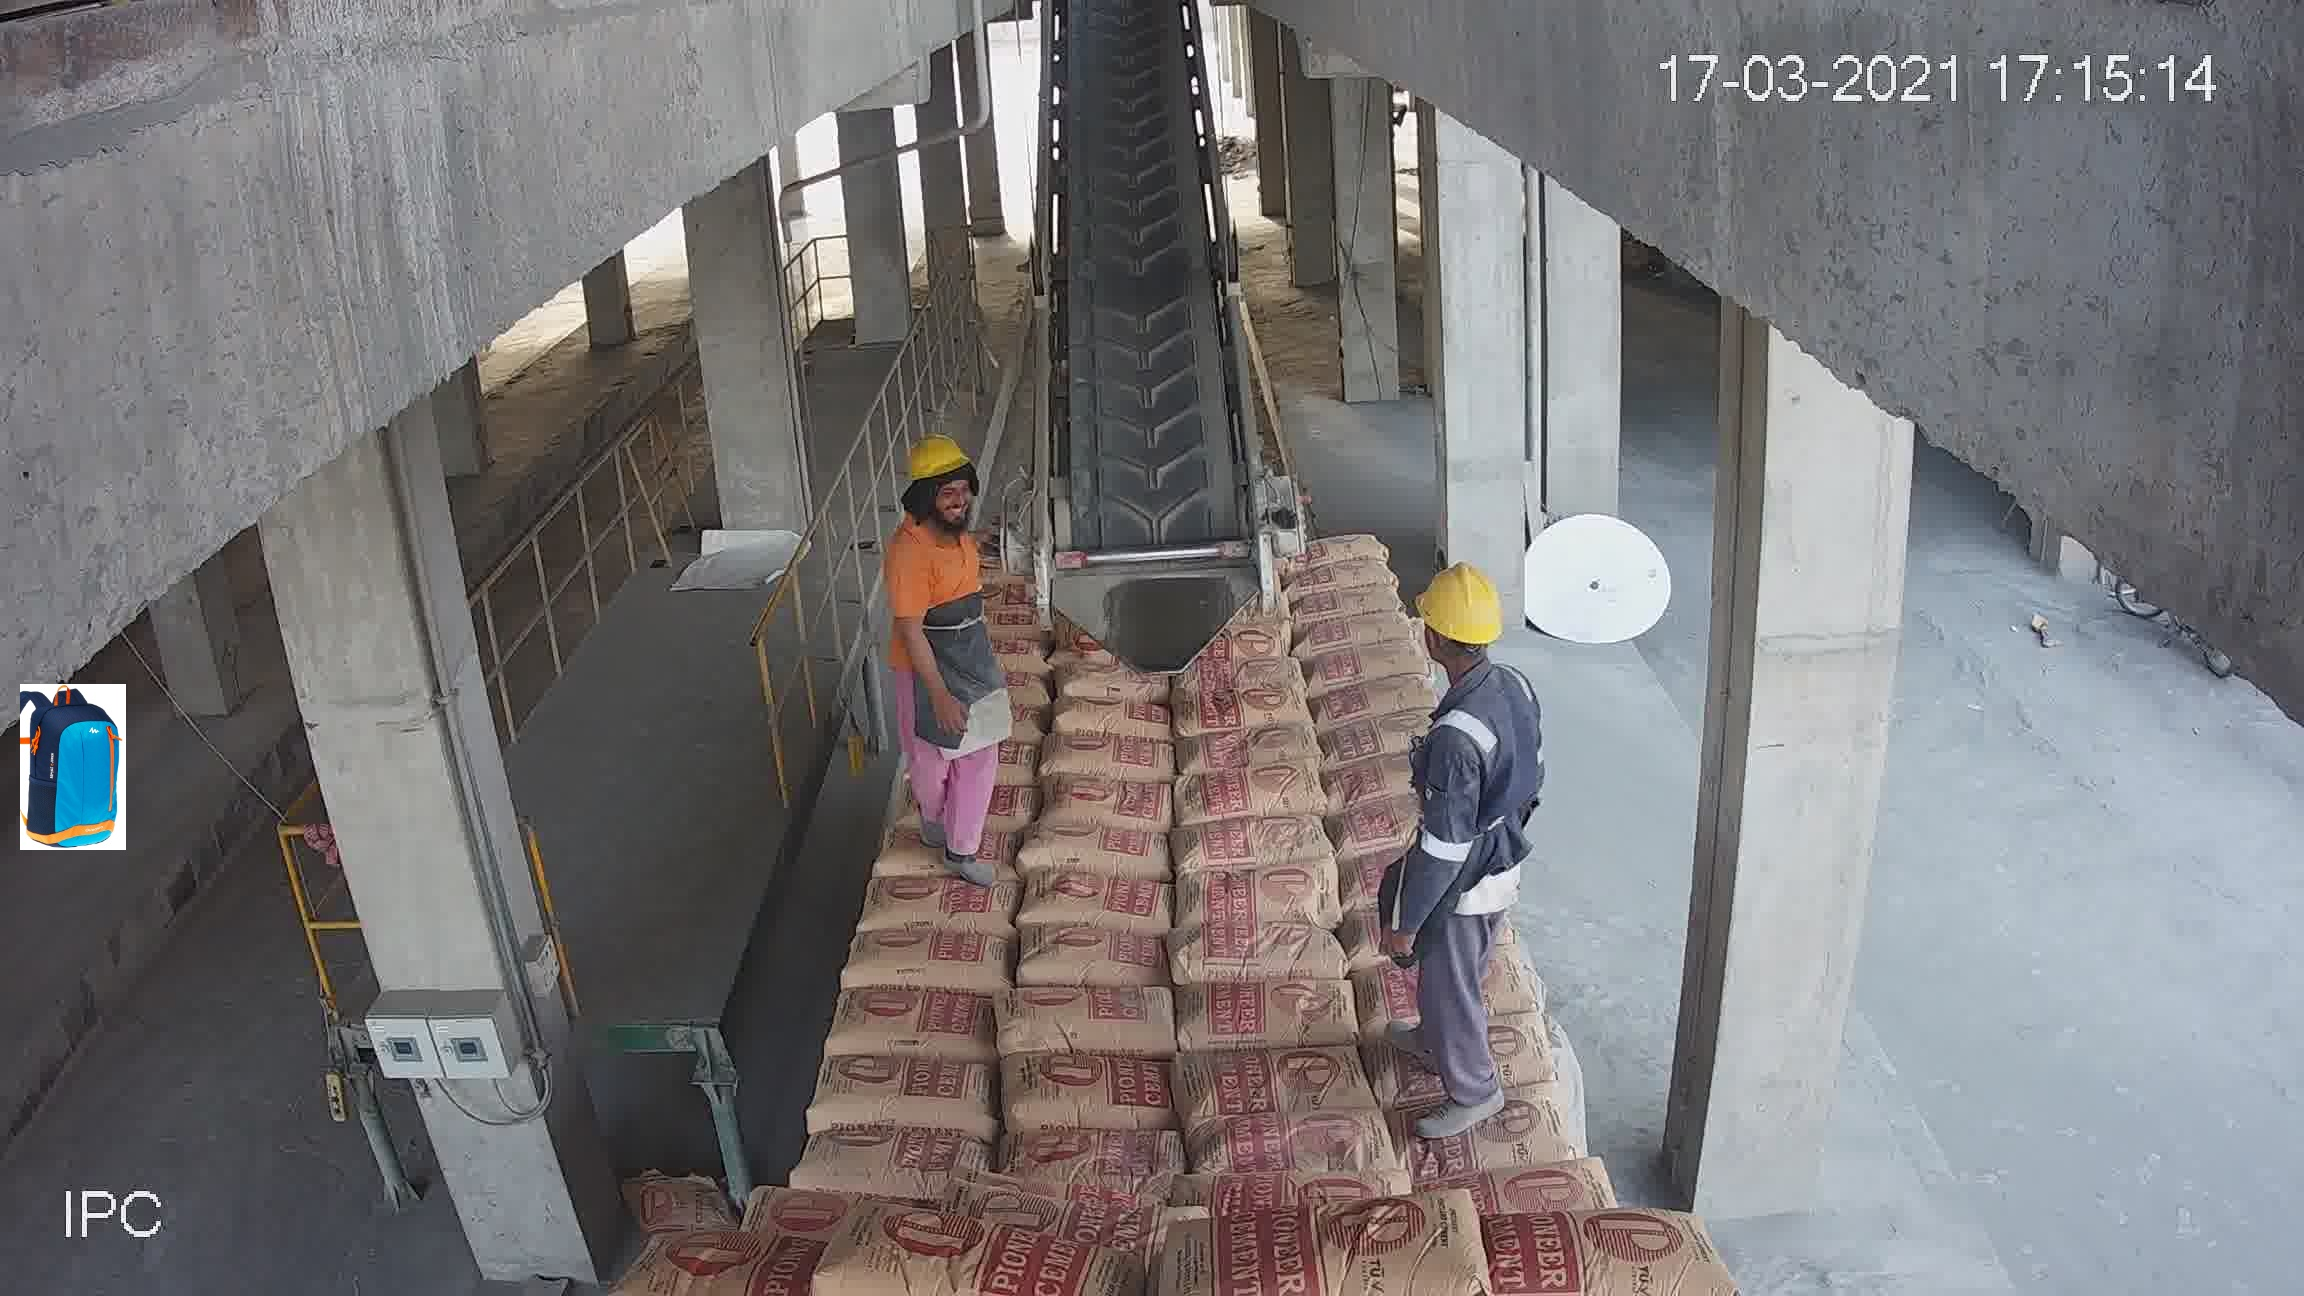bag_h: (1198, 1199, 1527, 1294), (805, 1218, 1120, 1296), (1443, 1209, 1703, 1291), (1388, 1086, 1581, 1185), (802, 1054, 1013, 1138), (1002, 1049, 1192, 1135), (1190, 1046, 1367, 1131), (1203, 1112, 1396, 1190), (1173, 976, 1364, 1052), (639, 1226, 850, 1294), (1000, 986, 1187, 1062), (829, 981, 1006, 1060), (842, 878, 1017, 954), (788, 1128, 1000, 1190), (995, 1120, 1185, 1188), (1177, 926, 1355, 992), (1434, 1161, 1614, 1226), (839, 927, 1014, 994), (1182, 862, 1334, 930), (1177, 812, 1331, 878), (1025, 815, 1168, 885), (1014, 934, 1176, 992), (1185, 760, 1329, 824), (1022, 873, 1180, 932), (1043, 772, 1182, 836), (1169, 682, 1313, 734), (1302, 630, 1416, 687), (1185, 728, 1318, 775), (1049, 739, 1177, 786), (1299, 604, 1400, 658), (1321, 673, 1432, 722), (1052, 699, 1161, 745), (1291, 582, 1402, 627), (1287, 557, 1397, 597), (1299, 525, 1397, 565)
belt: (1033, 32, 1250, 592)
